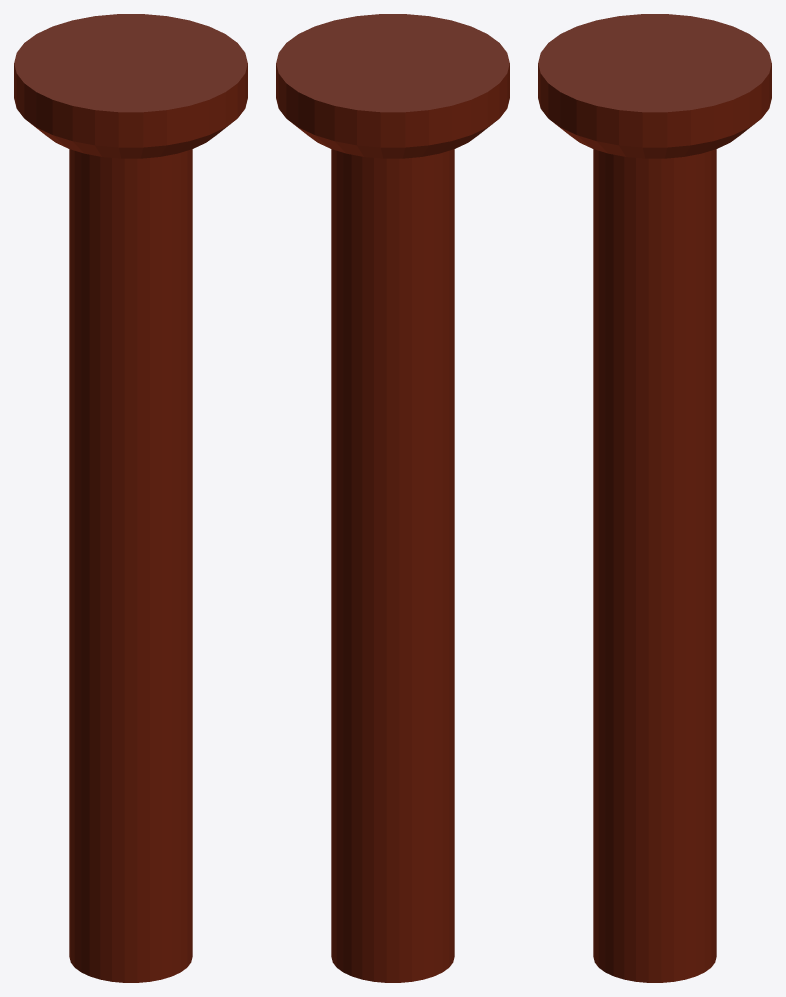
Rendered from PillarPlatform2.fbx.
3 renders of one model, left to right at view 1: azimuth 30°, elevation 25°; view 2: azimuth 150°, elevation 25°; view 3: azimuth 270°, elevation 25°, orthographic.
Parts seen in each view (by area): view 1: PillarPlatform2; view 2: PillarPlatform2; view 3: PillarPlatform2.
Part boxes in pixels (x1,y1,x2,y2): PillarPlatform2: (14, 14, 247, 982); PillarPlatform2: (276, 14, 509, 982); PillarPlatform2: (538, 14, 771, 982).
Size of the model in its own units: 1790 by 7596 by 1800.
